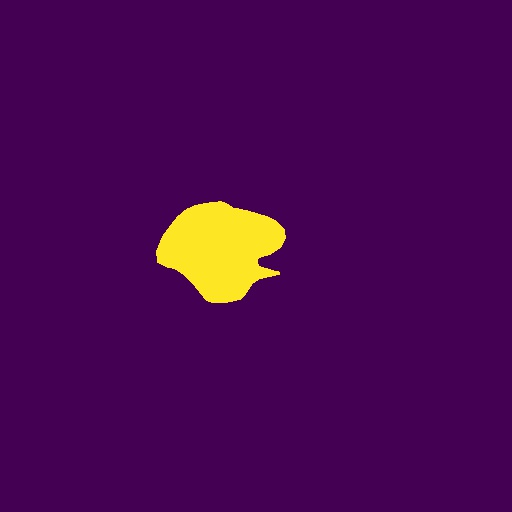Menigiomia_tumour: (156, 201, 286, 303)
